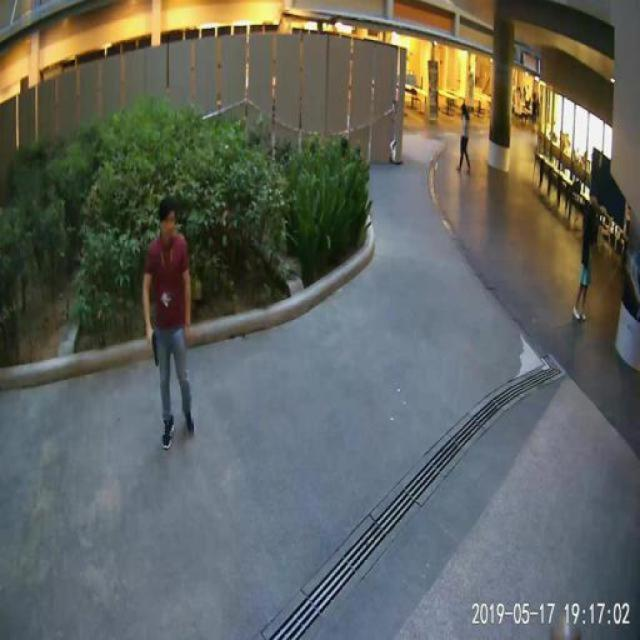pistol: (145, 330, 156, 364)
